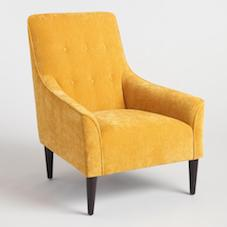chair: (19, 7, 207, 214)
